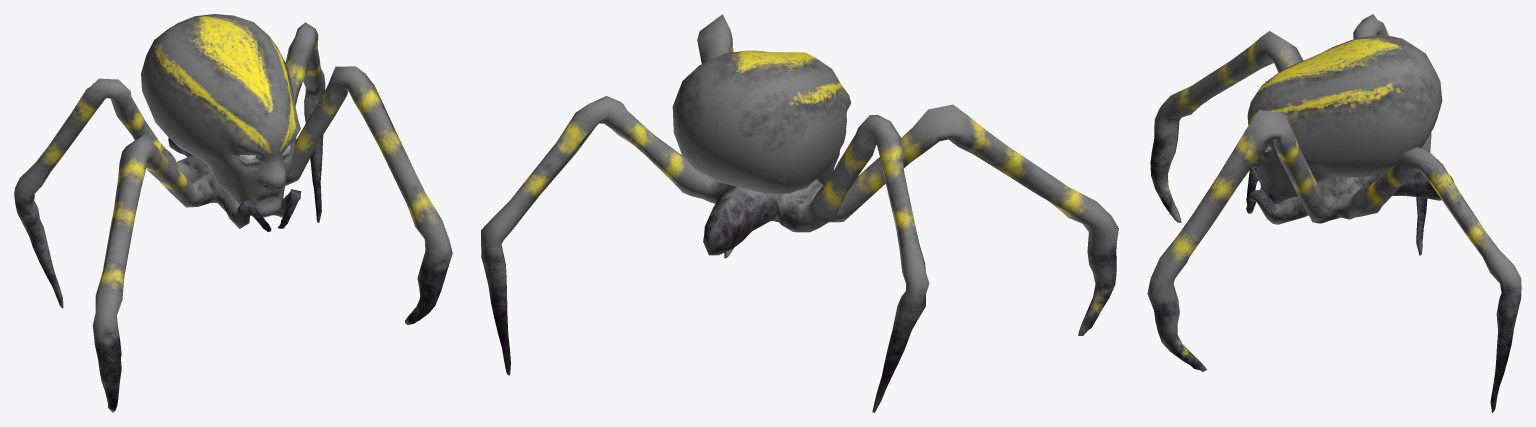
Rendered from spiderHead_frame2.obj.
The picture shows the model from 3 angles, left to right: view 1: azimuth 30°, elevation 25°; view 2: azimuth 150°, elevation 25°; view 3: azimuth 270°, elevation 25°; orthographic projection. The views are drawn at different scales.
Visible parts, largest first — view 1: spiderHead_frame2; view 2: spiderHead_frame2; view 3: spiderHead_frame2.
Boxes of the visible parts, left/top/right/bottom form: spiderHead_frame2: left=14, top=14, right=452, bottom=412; spiderHead_frame2: left=481, top=14, right=1118, bottom=412; spiderHead_frame2: left=1147, top=14, right=1521, bottom=412.
Bounding box in the file's own units: 7.69 × 5.17 × 6.09.
Materials: 1 (1 with a texture image).
